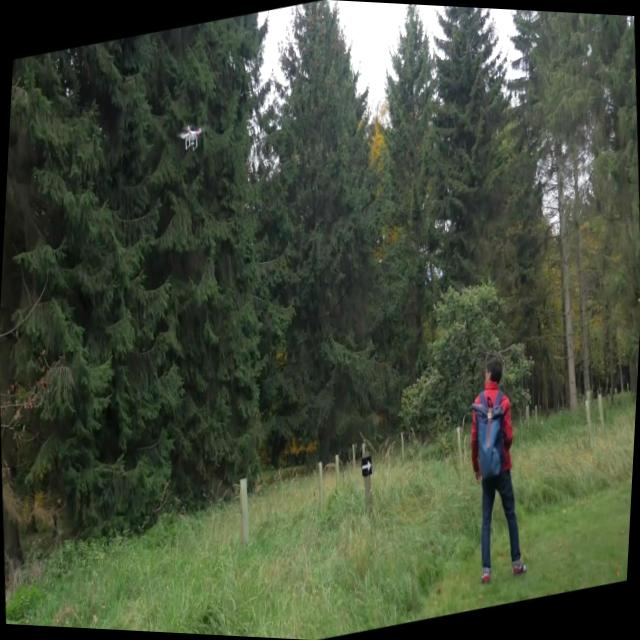drone: (174, 118, 203, 156)
